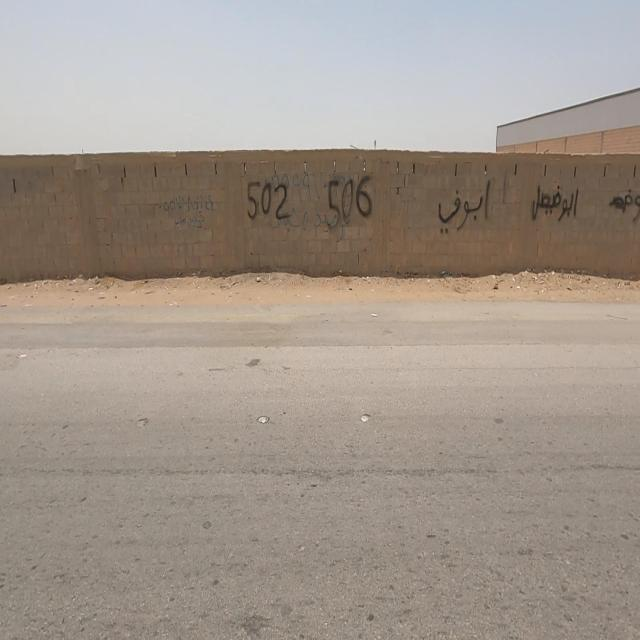Graffiti: (247, 170, 374, 239), (437, 181, 493, 234), (159, 192, 216, 230), (531, 185, 583, 224), (611, 188, 640, 222)
